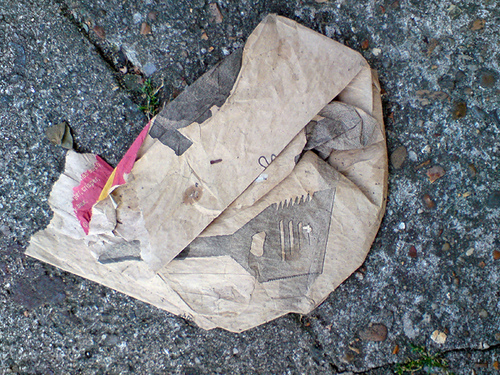litter: (24, 14, 389, 334)
